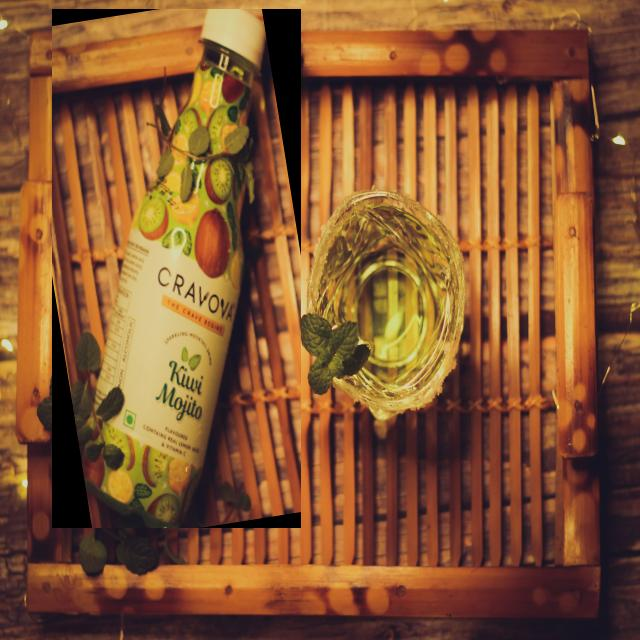Bottle: (53, 9, 301, 528)
